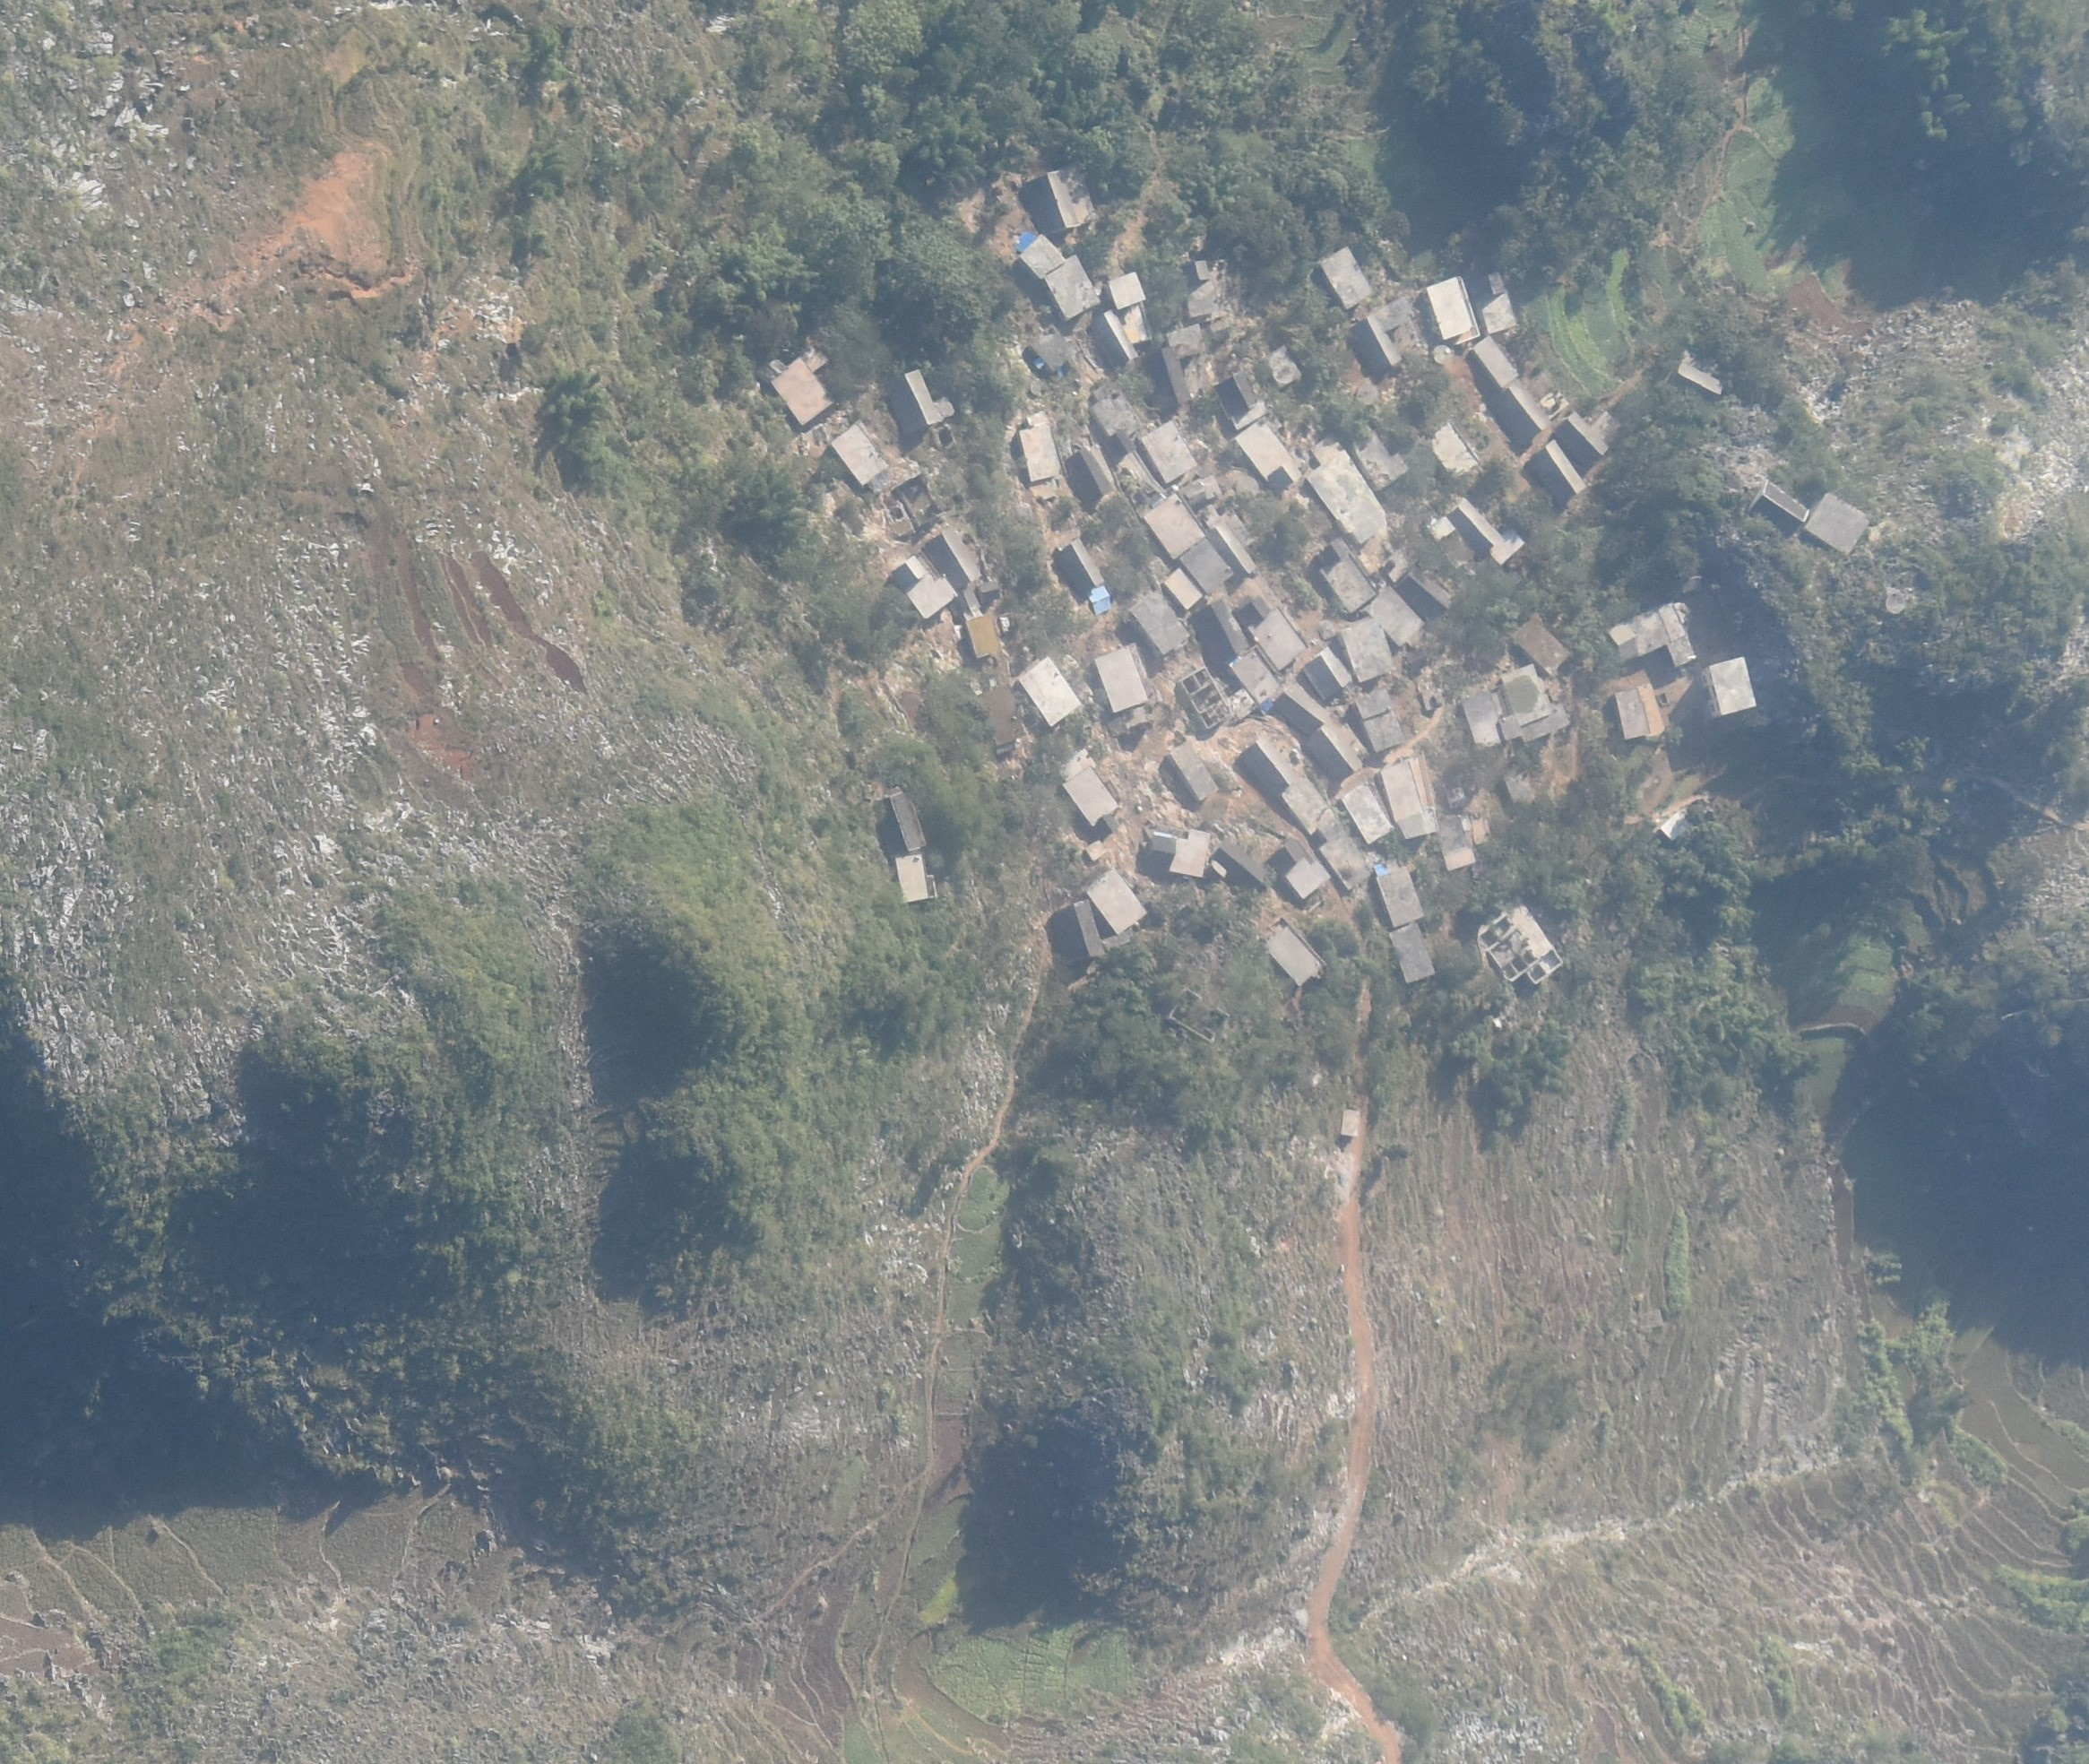building: (1242, 737, 1373, 891), (1463, 660, 1568, 747), (1309, 434, 1386, 542), (1017, 229, 1099, 318), (1477, 901, 1562, 983), (1431, 501, 1524, 572), (1024, 163, 1099, 234), (1610, 604, 1697, 665), (765, 350, 835, 425), (1379, 756, 1436, 842), (1240, 598, 1305, 674), (1062, 747, 1120, 831), (1317, 535, 1379, 614), (1018, 653, 1079, 730), (892, 551, 959, 618), (1191, 598, 1251, 672), (1359, 296, 1417, 371), (1181, 667, 1253, 726), (1804, 492, 1869, 556), (1142, 492, 1205, 558), (1351, 423, 1412, 492), (1086, 868, 1146, 938), (1239, 423, 1302, 486), (1130, 588, 1190, 654), (1340, 614, 1398, 681), (1422, 278, 1480, 343), (1139, 416, 1195, 483), (1093, 646, 1148, 714), (1508, 616, 1569, 675), (1265, 926, 1324, 987), (1354, 682, 1405, 754), (1184, 257, 1239, 324), (1106, 271, 1153, 346), (1226, 642, 1277, 710), (833, 422, 885, 486), (894, 367, 945, 434), (1275, 838, 1330, 899), (1342, 782, 1394, 845), (1309, 719, 1361, 782), (1018, 411, 1062, 486), (1706, 654, 1757, 719), (1321, 245, 1372, 308), (1394, 565, 1450, 621), (1751, 483, 1809, 537), (1370, 586, 1424, 644), (1179, 539, 1233, 597), (1492, 380, 1545, 439), (1468, 273, 1517, 336), (1055, 901, 1104, 964), (1170, 740, 1219, 803), (1146, 345, 1193, 409), (1212, 840, 1270, 892), (1067, 450, 1114, 513), (1426, 423, 1482, 476), (1303, 644, 1356, 700), (1216, 373, 1267, 430), (1375, 866, 1422, 928), (1389, 924, 1435, 987), (1148, 829, 1211, 875), (1275, 681, 1326, 737), (1207, 521, 1256, 579), (929, 528, 978, 586), (1615, 682, 1659, 742), (1058, 539, 1106, 593), (1543, 437, 1587, 495), (1436, 814, 1477, 873), (1017, 334, 1069, 380), (1093, 308, 1137, 362), (891, 787, 927, 850), (1473, 334, 1517, 387), (898, 852, 940, 905), (1566, 411, 1608, 457), (1267, 345, 1302, 395), (1678, 360, 1723, 397), (966, 612, 1001, 660), (1163, 567, 1202, 609), (1163, 324, 1205, 355), (1505, 768, 1534, 807), (1660, 808, 1692, 840), (1340, 1109, 1363, 1136), (976, 579, 1001, 602)
prefabricated-house: (1086, 584, 1109, 614)
well: (1431, 341, 1452, 364), (1884, 591, 1904, 612)
